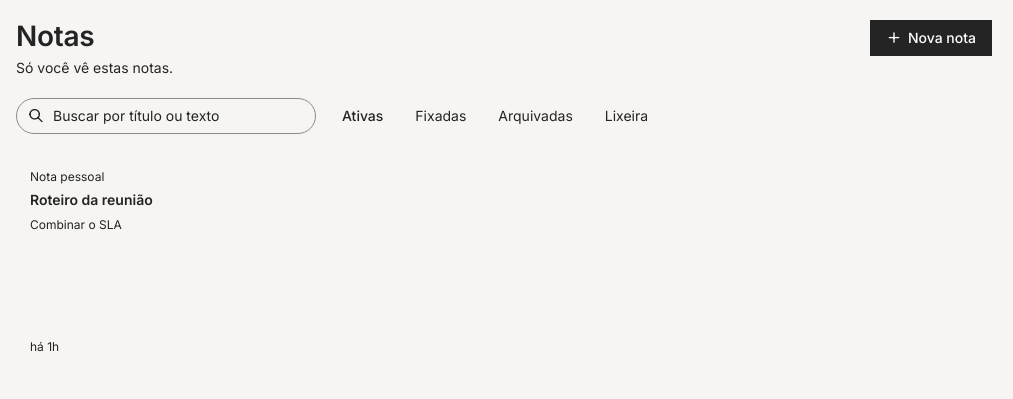
Test: PaginaNotas › avisa se criar falhar
Click the button "Nova nota".
click(931, 38)  # box [870,20,992,56]
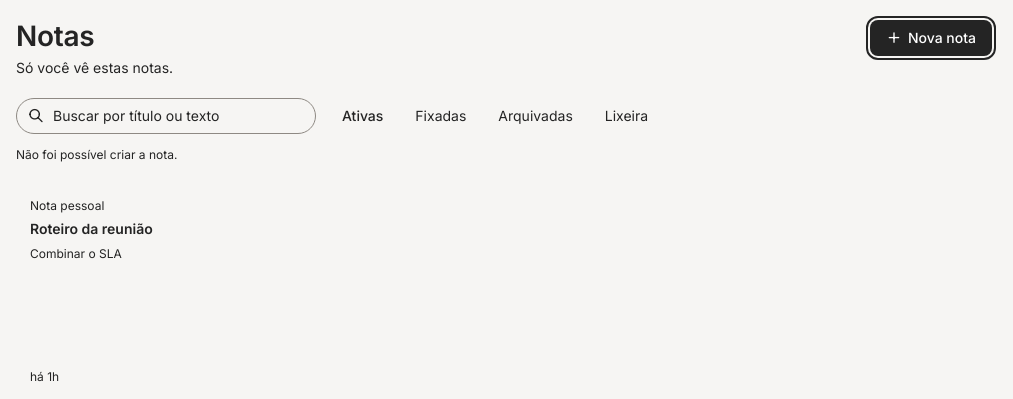
Expected: the message shows "Não foi possível criar", [16,147,177,162]
